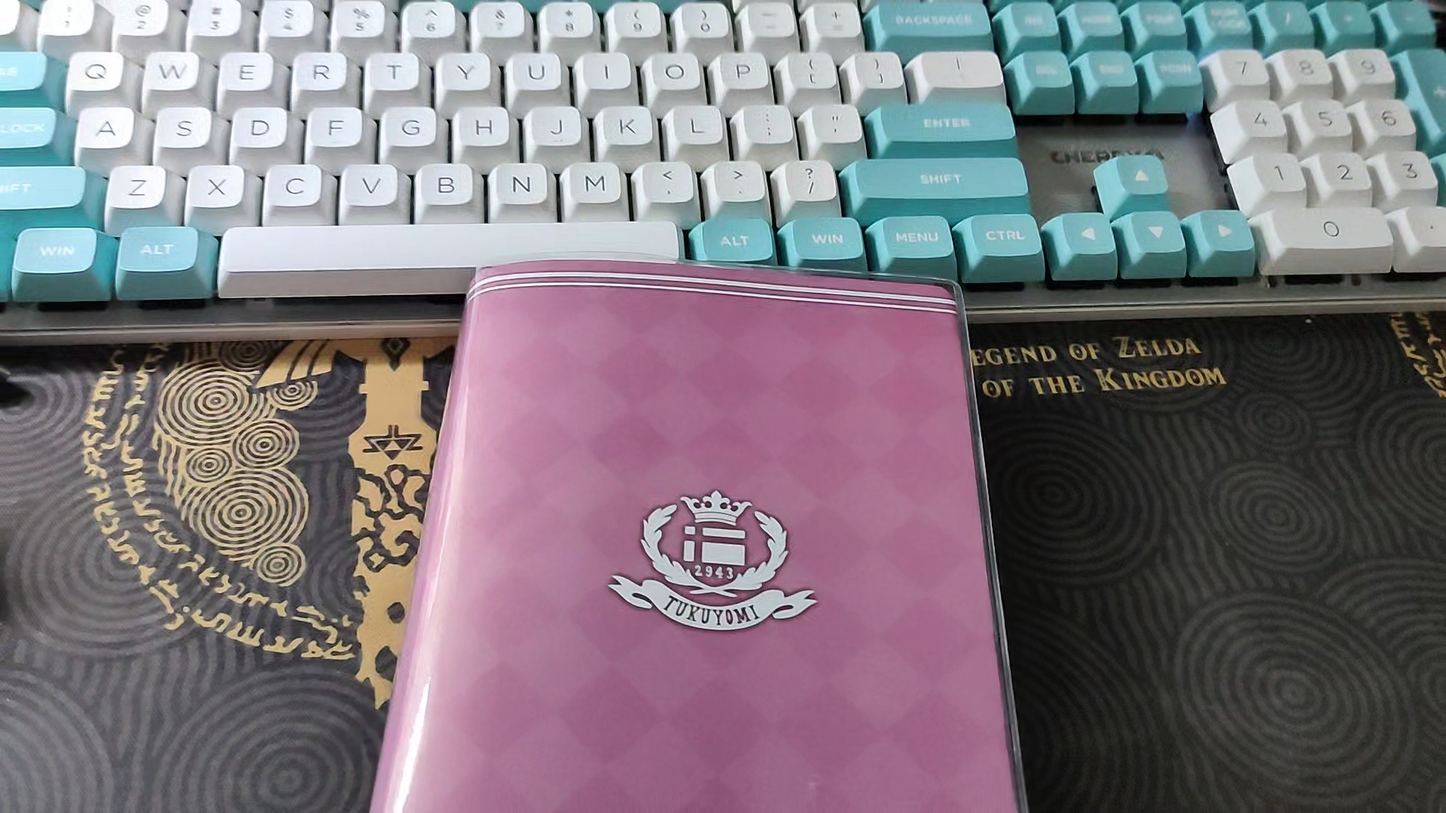Photo_book: (363, 256, 1024, 812)
